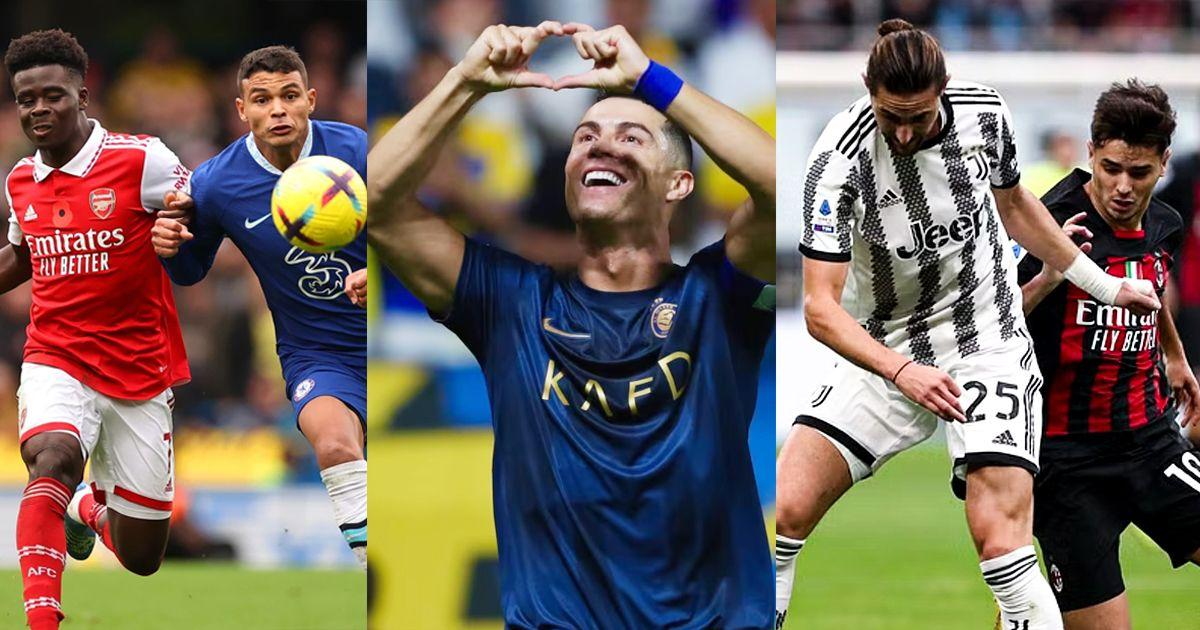ballon_football: (271, 155, 367, 254)
